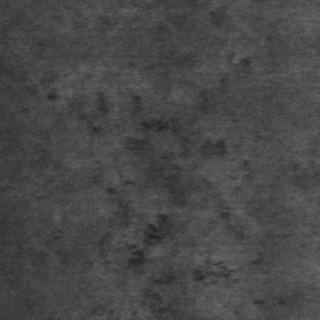rolled pit: (86, 175, 232, 315)
